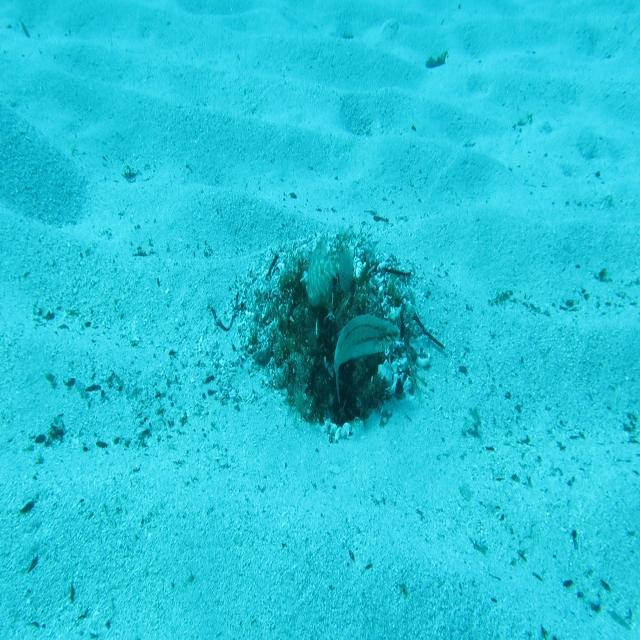NIP_CORE: (302, 233, 356, 312)
core_nest: (302, 270, 353, 326)
female: (333, 311, 401, 410)
nest: (226, 220, 438, 457)
vegetation: (423, 51, 452, 71)
